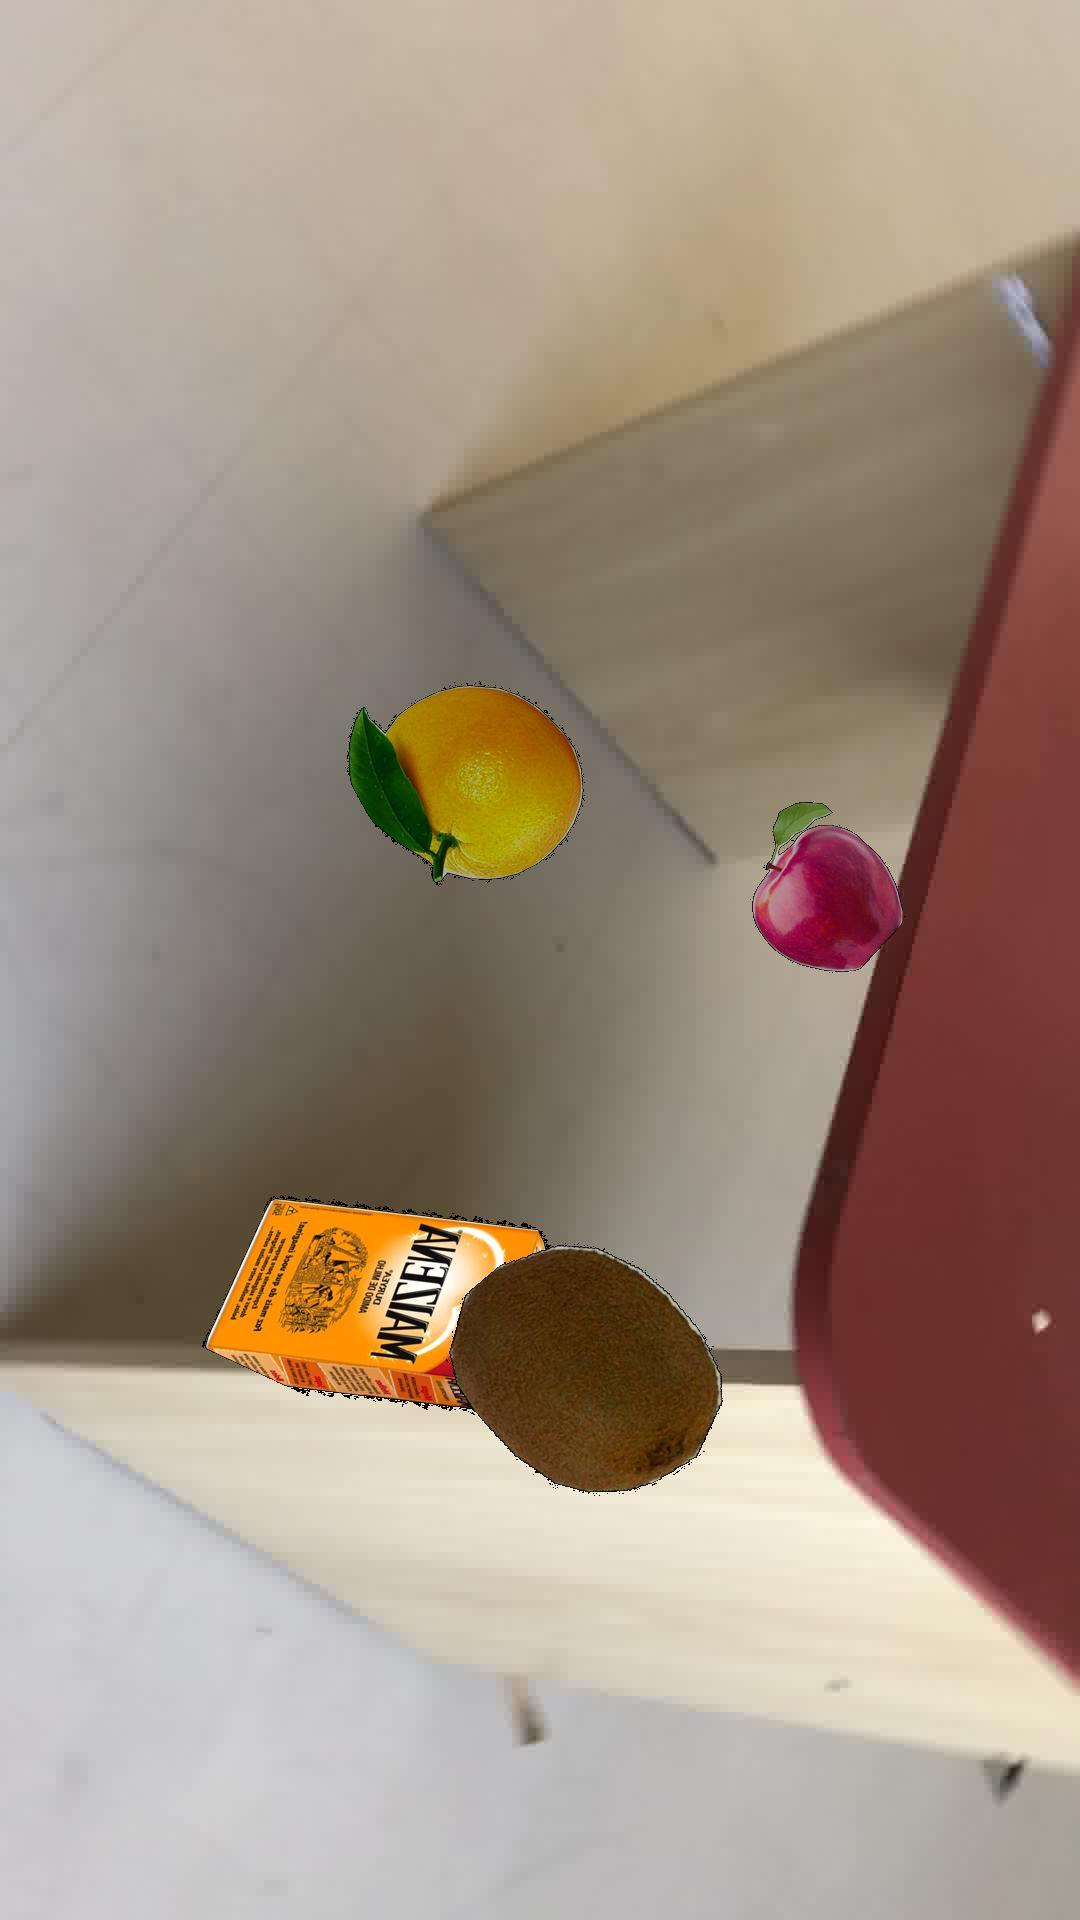apple: (752, 802, 902, 971)
kiwi: (447, 1244, 720, 1493)
orange: (345, 682, 583, 884)
